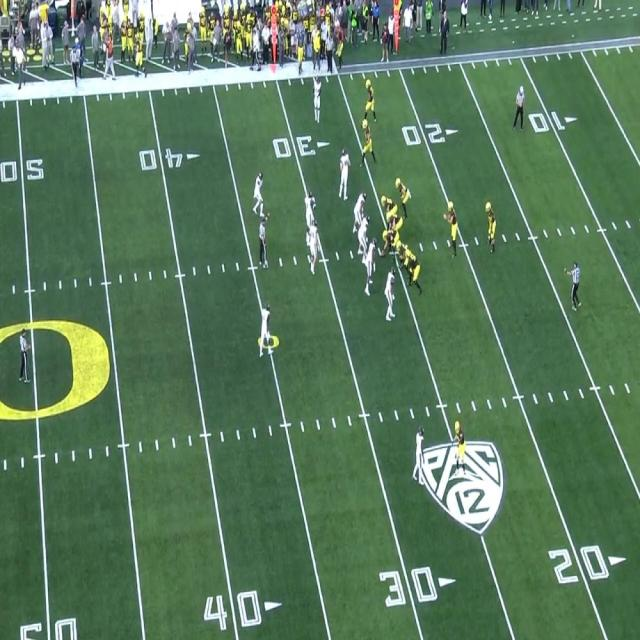center: (382, 227, 394, 257)
db: (414, 425, 426, 483), (258, 306, 270, 345), (312, 79, 322, 122), (253, 174, 262, 210)
lb: (384, 268, 397, 318), (309, 221, 318, 264), (341, 150, 348, 198), (302, 190, 314, 214)
qb: (443, 199, 458, 253)
skill: (358, 120, 380, 166), (486, 199, 499, 251), (394, 176, 411, 209), (364, 80, 378, 118), (453, 419, 463, 462)
